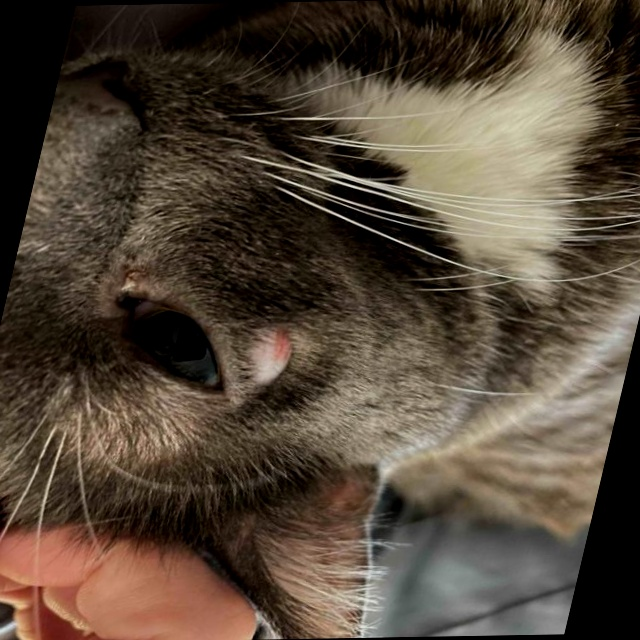lump_and_bump: (239, 317, 299, 391)
